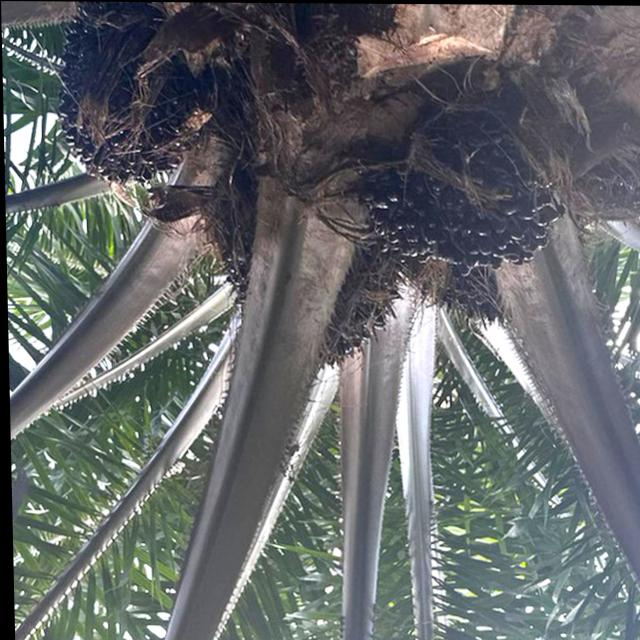unripe: (365, 82, 574, 276), (208, 179, 410, 374), (56, 0, 213, 190)
